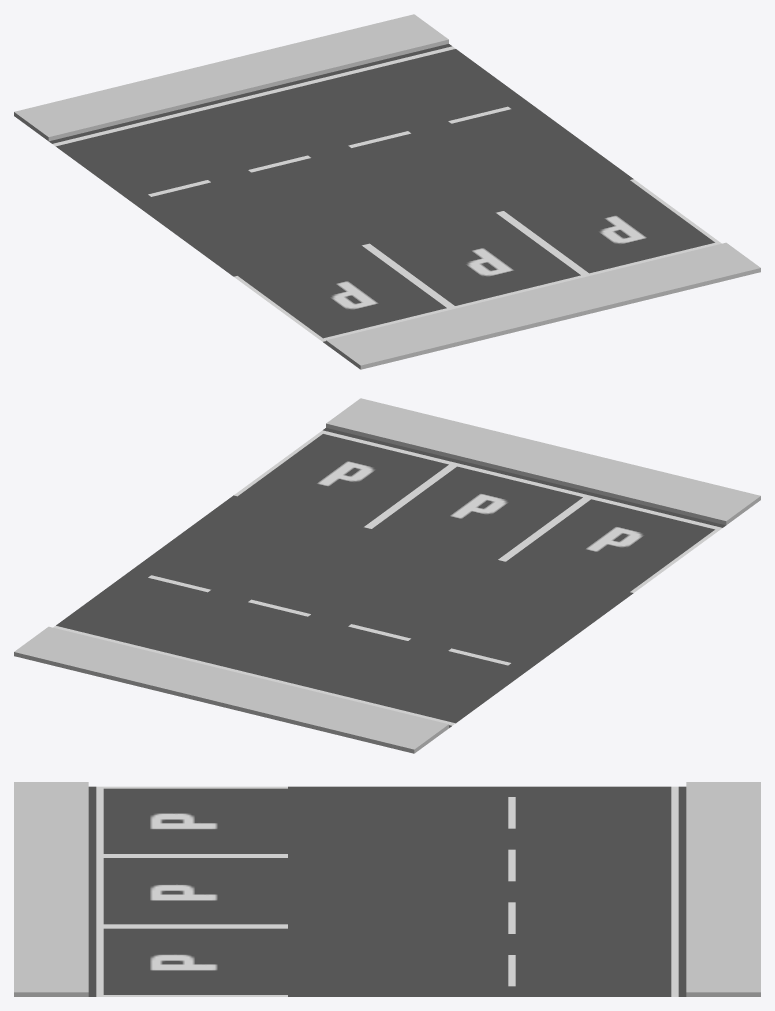
Rendered from SPW_Urban_Road 2way_Side Parking_02.gltf.
3 renders of one model, top to bottom at view 1: azimuth 30°, elevation 25°; view 2: azimuth 150°, elevation 25°; view 3: azimuth 270°, elevation 25°, orthographic. The views are drawn at different scales.
Parts seen in each view (by area): view 1: SPW_Urban_Road_2way_Side_Parking_02; view 2: SPW_Urban_Road_2way_Side_Parking_02; view 3: SPW_Urban_Road_2way_Side_Parking_02.
Part boxes in pixels (x1=…): SPW_Urban_Road_2way_Side_Parking_02: x1=14, y1=14, x2=760, y2=369; SPW_Urban_Road_2way_Side_Parking_02: x1=14, y1=398, x2=760, y2=753; SPW_Urban_Road_2way_Side_Parking_02: x1=14, y1=782, x2=760, y2=996.
Bounding box in the file's own units: 787 × 7.87 × 1181.
1 material, 1 textured.
